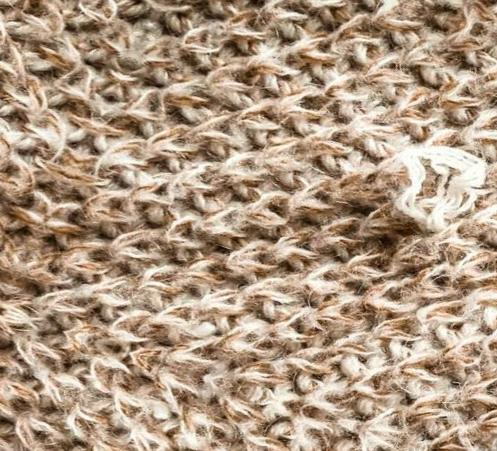snag: (374, 134, 494, 256)
